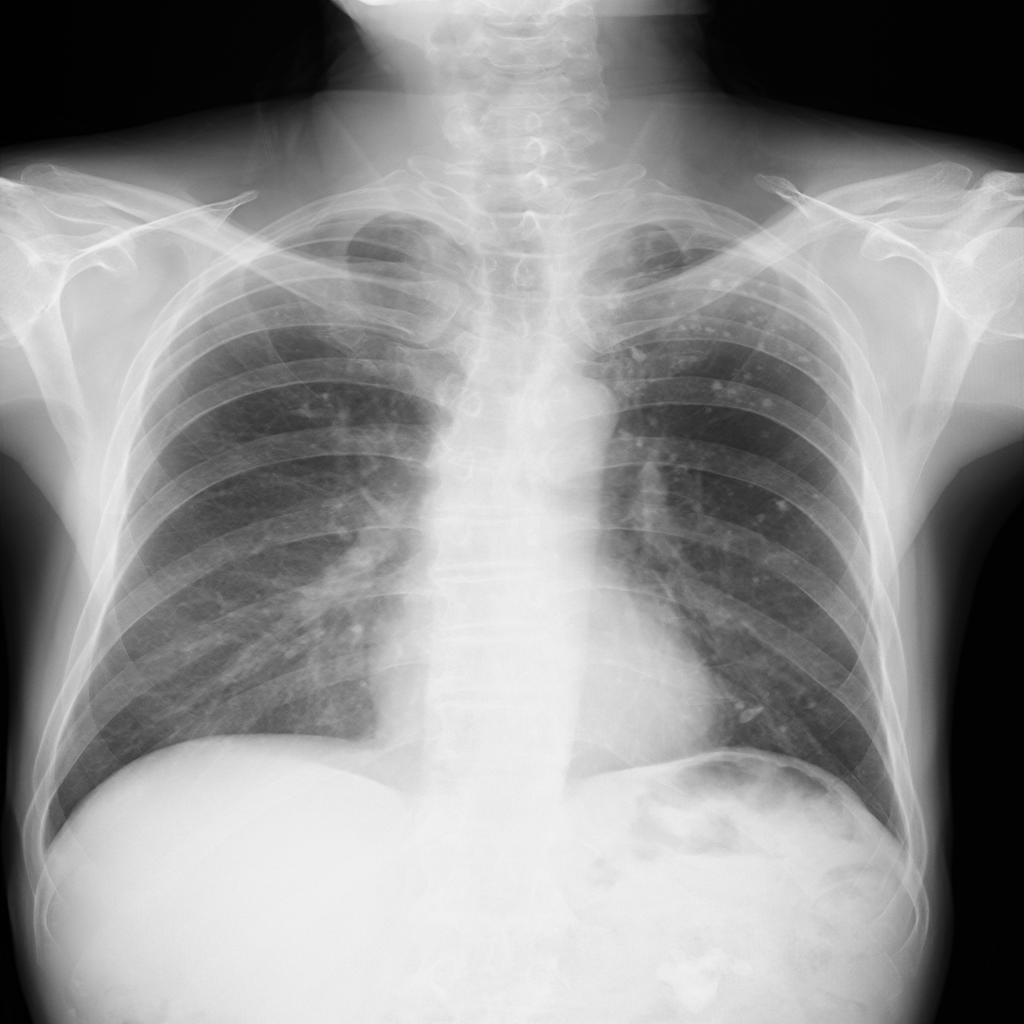Nodule: (740, 699, 768, 723), (632, 346, 650, 364), (706, 275, 725, 291), (777, 497, 796, 512), (618, 430, 636, 444), (796, 353, 814, 363), (721, 331, 736, 342), (762, 401, 779, 409), (712, 382, 726, 391)
